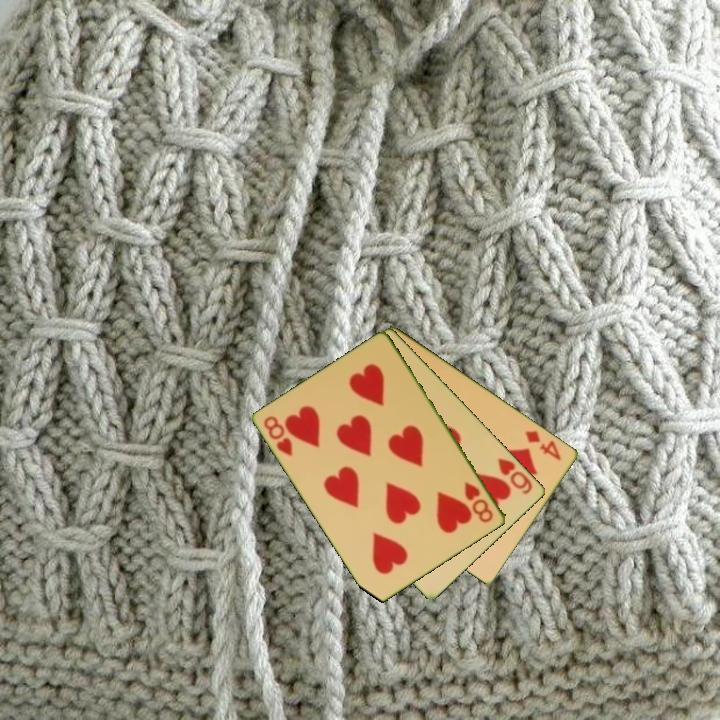4d: (522, 427, 565, 464)
6h: (494, 454, 536, 497)
8h: (461, 478, 497, 526), (260, 412, 296, 459)
